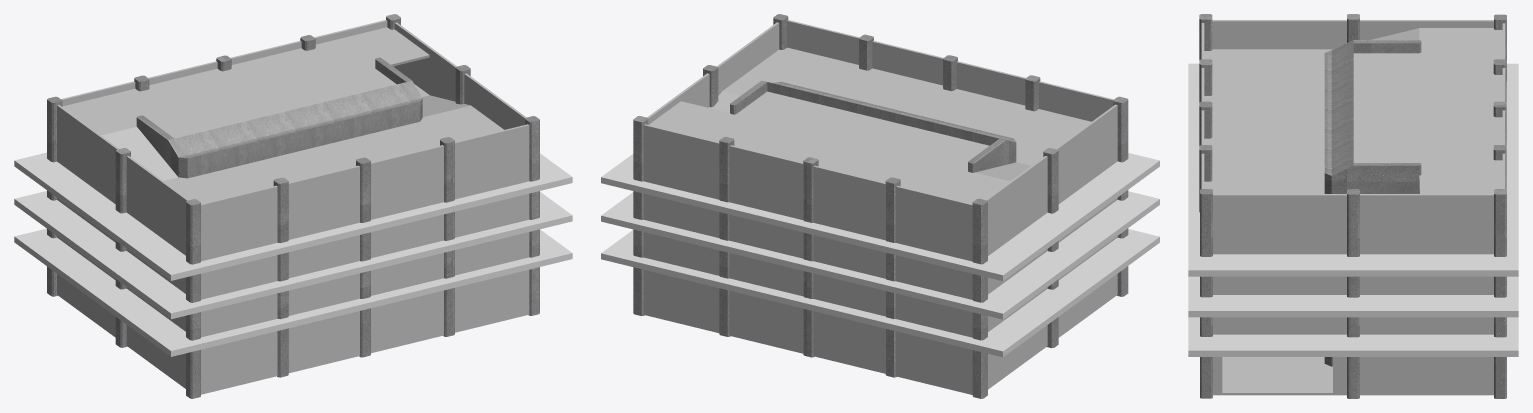
The model's file is multiStory.fbx.
3 renders of one model, left to right at view 1: azimuth 30°, elevation 25°; view 2: azimuth 150°, elevation 25°; view 3: azimuth 270°, elevation 25°, orthographic. The views are drawn at different scales.
Parts seen in each view (by area): view 1: Cube, Cube.001, Cube.007, Cube.002, Cube.005, Cube.004, Cube.006; view 2: Cube, Cube.001, Cube.007, Cube.005, Cube.004, Cube.006, Cube.002; view 3: Cube, Cube.001, Cube.006, Cube.007, Cube.005, Cube.004, Cube.002.
Part boxes in pixels (x1=…): Cube: x1=57, y1=20, x2=529, y2=394; Cube.001: x1=62, y1=27, x2=503, y2=203; Cube.007: x1=47, y1=14, x2=539, y2=398; Cube.002: x1=136, y1=57, x2=422, y2=178; Cube.005: x1=14, y1=191, x2=572, y2=319; Cube.004: x1=14, y1=228, x2=572, y2=356; Cube.006: x1=14, y1=152, x2=572, y2=280; Cube: x1=643, y1=20, x2=1117, y2=394; Cube.001: x1=649, y1=47, x2=1091, y2=203; Cube.007: x1=633, y1=14, x2=1128, y2=398; Cube.005: x1=601, y1=191, x2=1159, y2=319; Cube.004: x1=601, y1=229, x2=1159, y2=357; Cube.006: x1=601, y1=153, x2=1159, y2=281; Cube.002: x1=730, y1=80, x2=1016, y2=172; Cube: x1=1201, y1=20, x2=1505, y2=395; Cube.001: x1=1204, y1=28, x2=1502, y2=193; Cube.006: x1=1188, y1=63, x2=1518, y2=276; Cube.007: x1=1199, y1=14, x2=1506, y2=398; Cube.005: x1=1188, y1=276, x2=1518, y2=317; Cube.004: x1=1188, y1=317, x2=1518, y2=356; Cube.002: x1=1324, y1=40, x2=1421, y2=366.
Size of the model in its own units: 2198 by 1013 by 1485.
